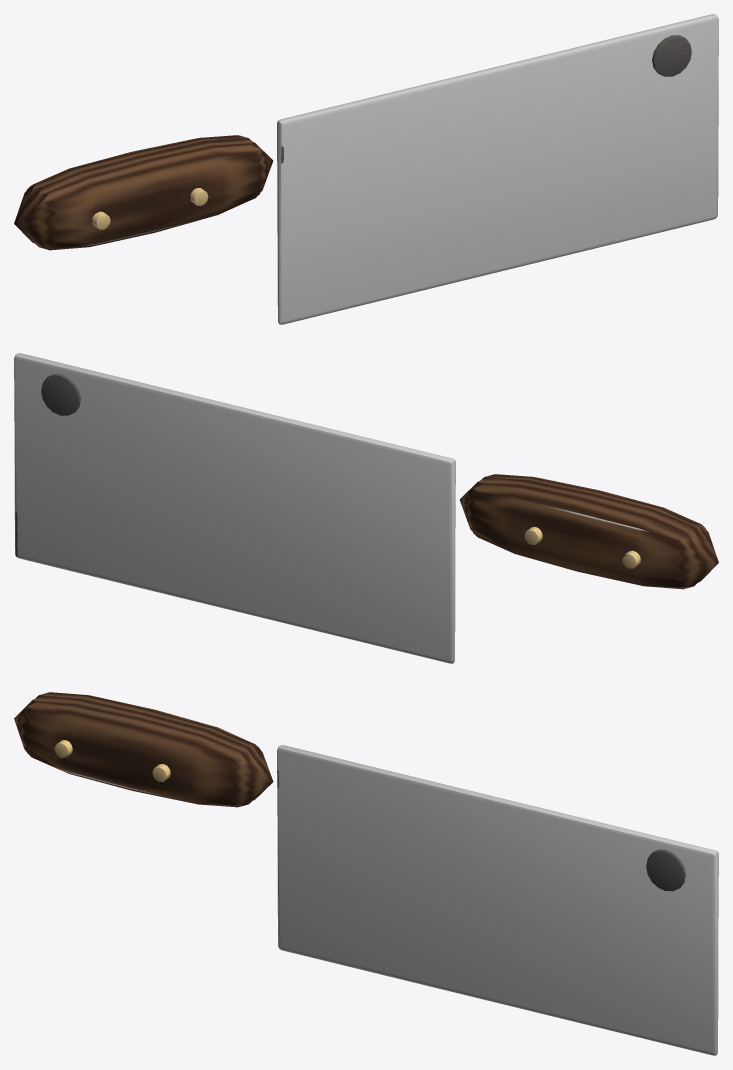
File: cleaver.glb
The picture shows the model from 3 angles, top to bottom: view 1: azimuth 30°, elevation 25°; view 2: azimuth 150°, elevation 25°; view 3: azimuth 330°, elevation 25°; orthographic projection.
Parts seen in each view (by area): view 1: blade, handle, hole; view 2: blade, handle, hole; view 3: blade, handle, hole.
Boxes of the visible parts, x1,y1,x2,y2 form: blade: (277, 14, 718, 324); handle: (14, 135, 273, 250); hole: (652, 35, 691, 76); blade: (14, 353, 455, 663); handle: (459, 474, 718, 589); hole: (41, 374, 80, 415); blade: (277, 745, 718, 1055); handle: (14, 692, 273, 807); hole: (646, 849, 685, 891).
Size of the model in its own units: 0.2881 by 0.08 by 0.03.
Materials: 1 (1 with a texture image).
